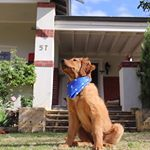puppy: (53, 54, 128, 150)
